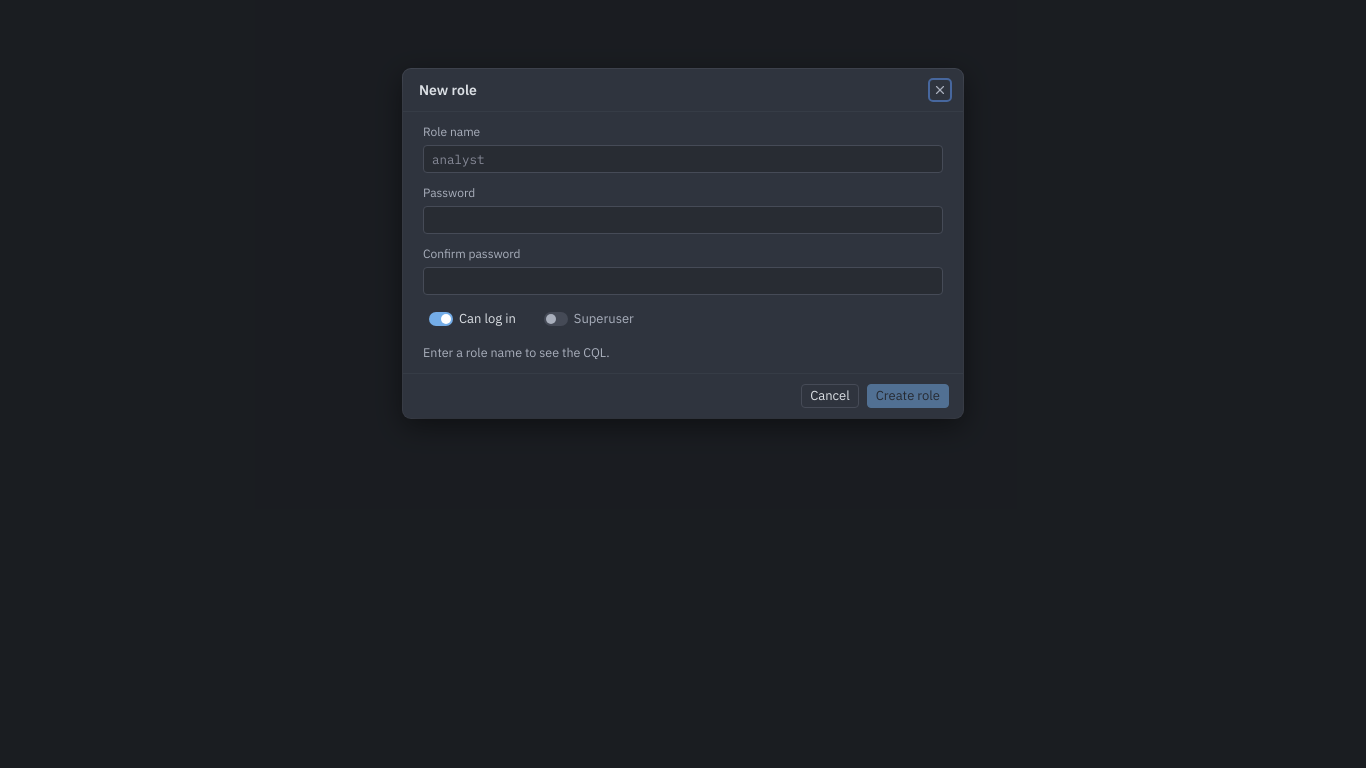
Test: NewRoleDialog › keeps inputs and shows a server error inline
Type "a" into the field labelled "Role name" at (683, 159), box [423,145,943,173]
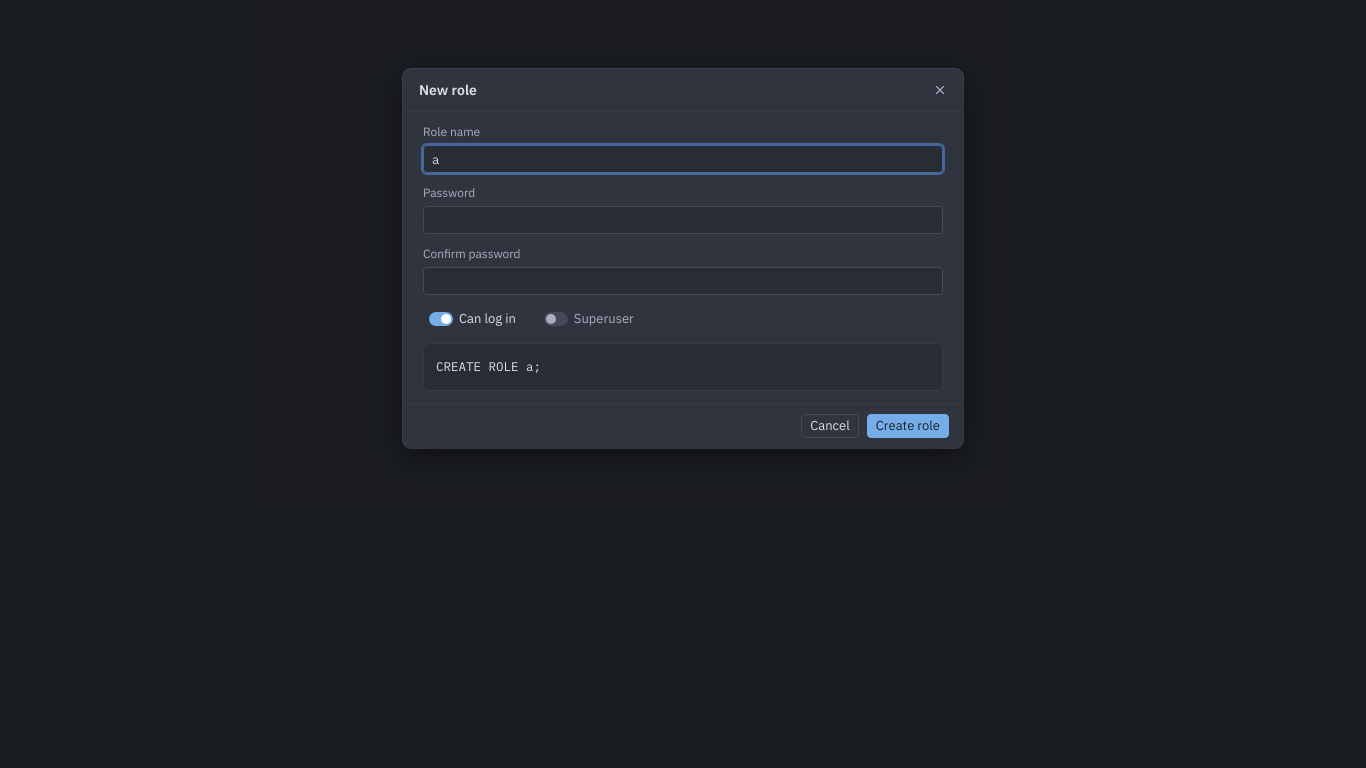
Result: the button "Create role" is enabled
Click the button "Create role" at (908, 426), box [867,414,949,438]
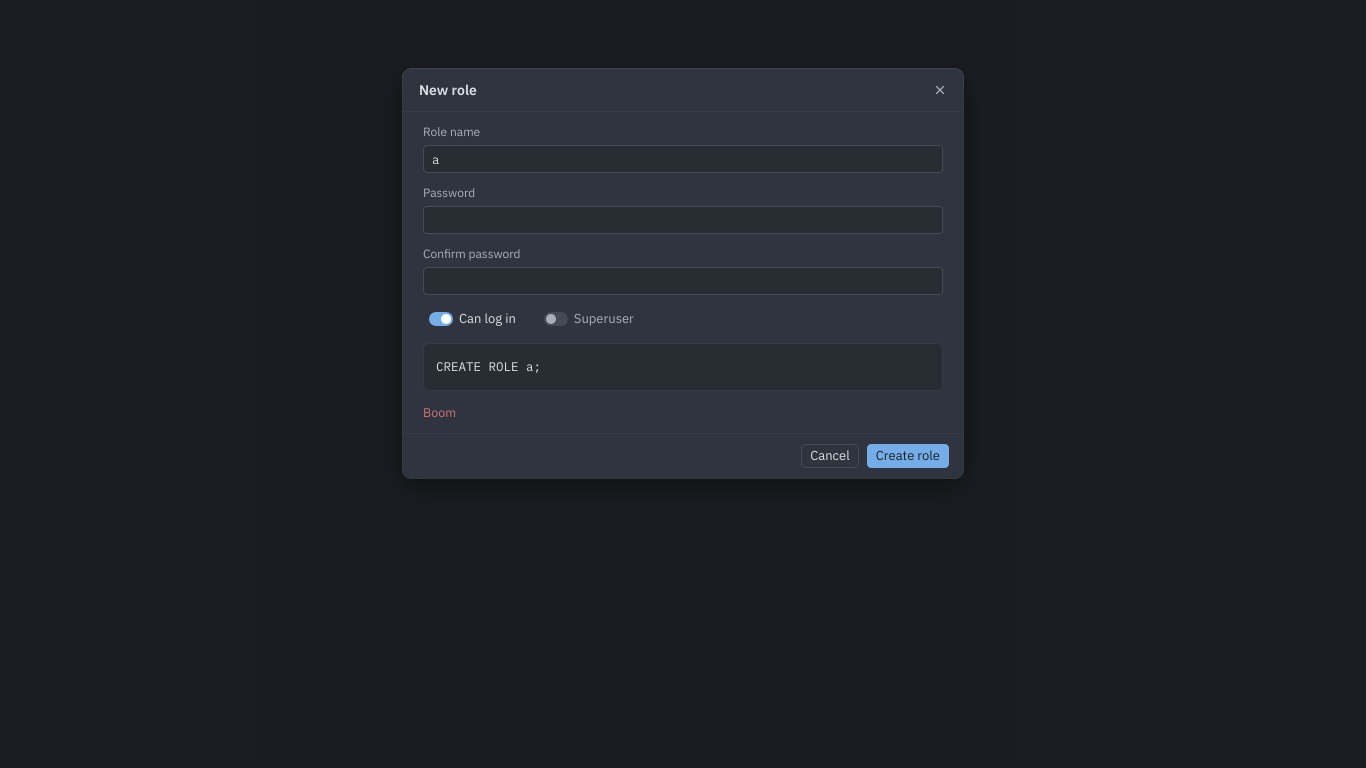
Result: the text "Boom" is shown at [423,404,456,420]
